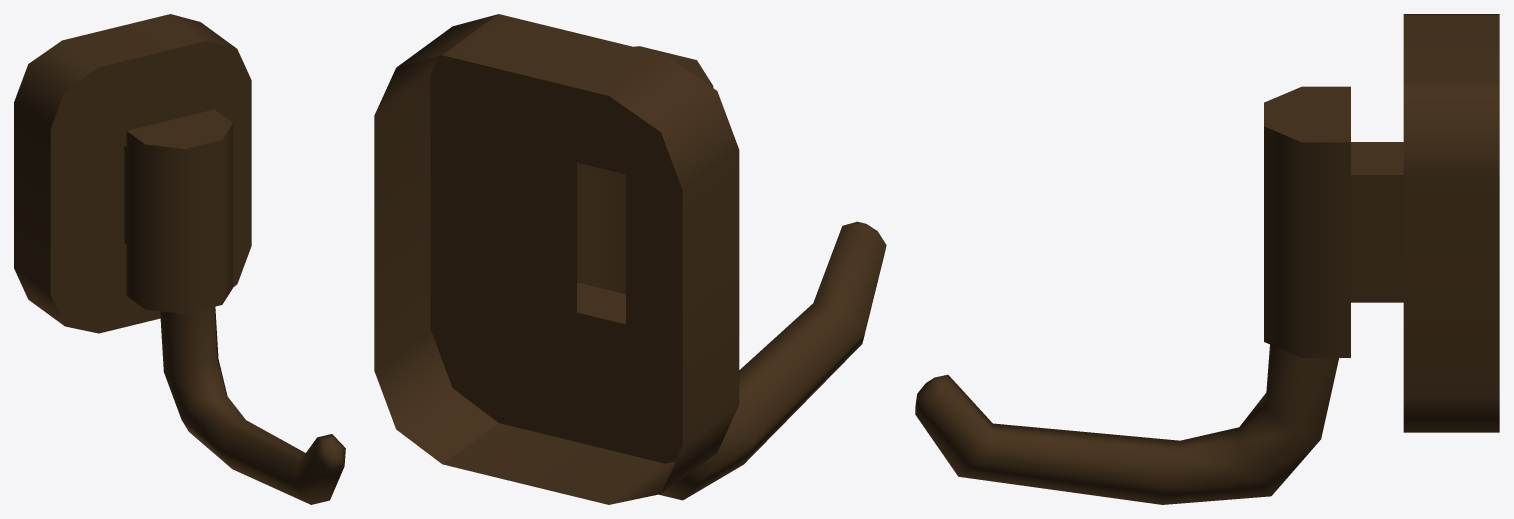
Rendered from SM_Props_FarmHook_03.obj.
3 renders of one model, left to right at view 1: azimuth 30°, elevation 25°; view 2: azimuth 150°, elevation 25°; view 3: azimuth 270°, elevation 25°, orthographic. The views are drawn at different scales.
Parts seen in each view (by area): view 1: SM_Props_FarmHook_03_Mat_SwatchOverlay_Farm_01_WoodRotated_Inst; view 2: SM_Props_FarmHook_03_Mat_SwatchOverlay_Farm_01_WoodRotated_Inst; view 3: SM_Props_FarmHook_03_Mat_SwatchOverlay_Farm_01_WoodRotated_Inst.
Part boxes in pixels (x1,y1,x2,y2): SM_Props_FarmHook_03_Mat_SwatchOverlay_Farm_01_WoodRotated_Inst: (14, 14, 345, 504); SM_Props_FarmHook_03_Mat_SwatchOverlay_Farm_01_WoodRotated_Inst: (374, 14, 886, 504); SM_Props_FarmHook_03_Mat_SwatchOverlay_Farm_01_WoodRotated_Inst: (915, 14, 1499, 504).
Size of the model in its own units: 0.1706 by 0.2798 by 0.329.
Materials: 1 (1 with a texture image).
